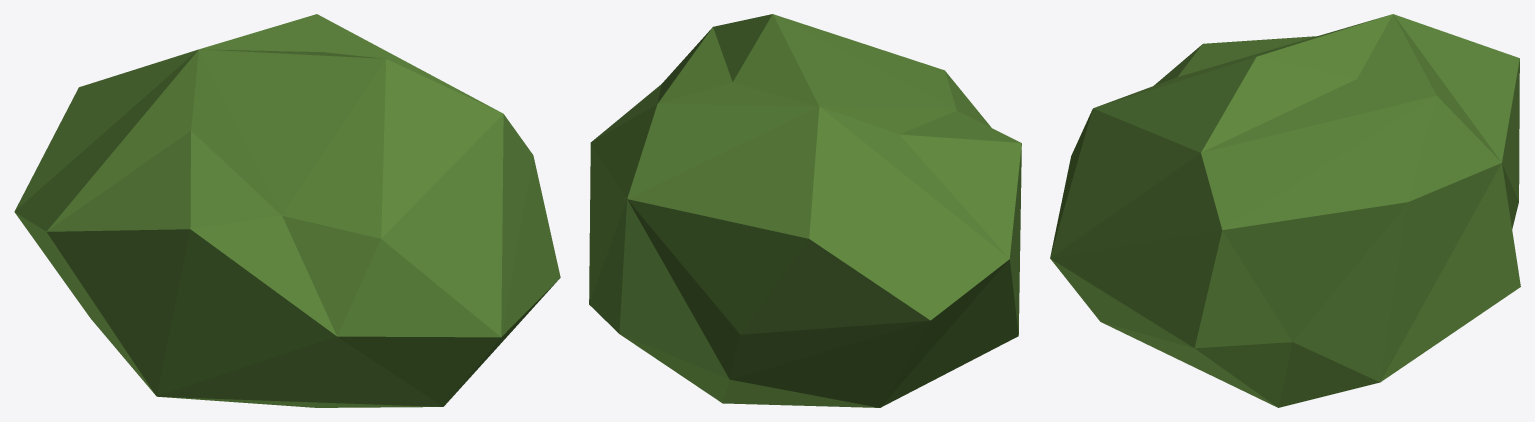
File: Bush_02.fbx
The picture shows the model from 3 angles, left to right: view 1: azimuth 30°, elevation 25°; view 2: azimuth 150°, elevation 25°; view 3: azimuth 270°, elevation 25°; orthographic projection. The views are drawn at different scales.
Visible parts, largest first — view 1: Cube; view 2: Cube; view 3: Cube.
Boxes of the visible parts, x1,y1,x2,y2 form: Cube: (14, 14, 560, 407); Cube: (589, 14, 1021, 407); Cube: (1050, 14, 1520, 407).
Size of the model in its own units: 83.98 by 61.98 by 81.52.
